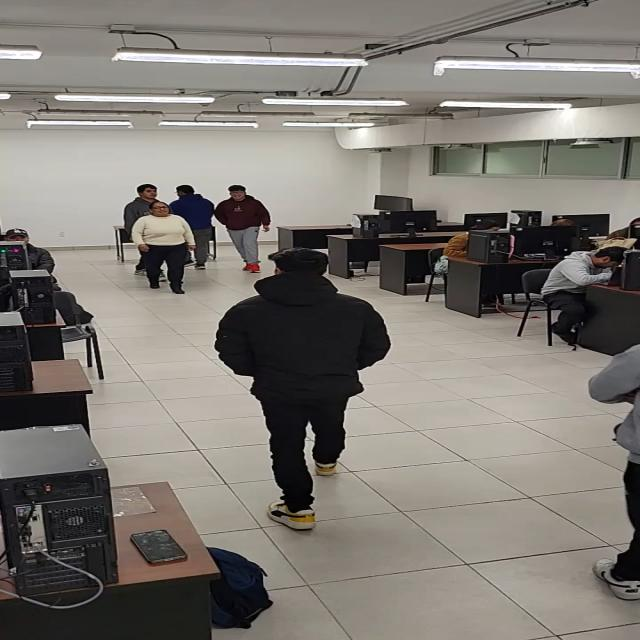Persona: (220, 242, 389, 530), (130, 200, 196, 286), (217, 181, 271, 275), (175, 185, 217, 272)
